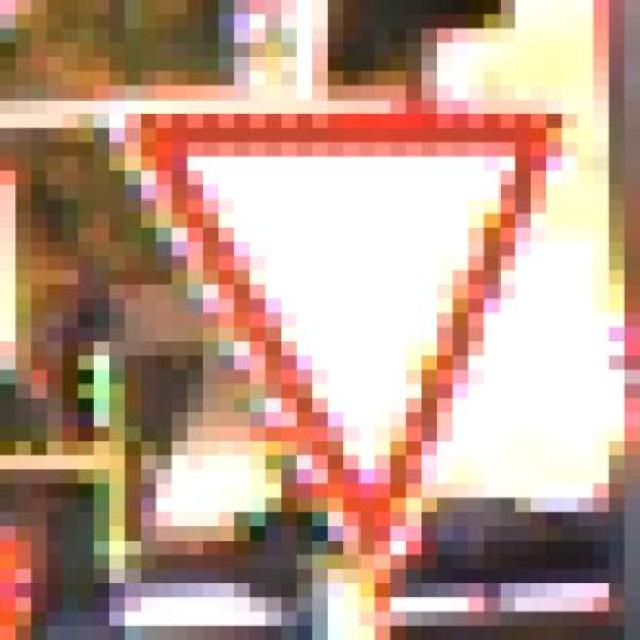Give Way: (78, 85, 593, 626)
